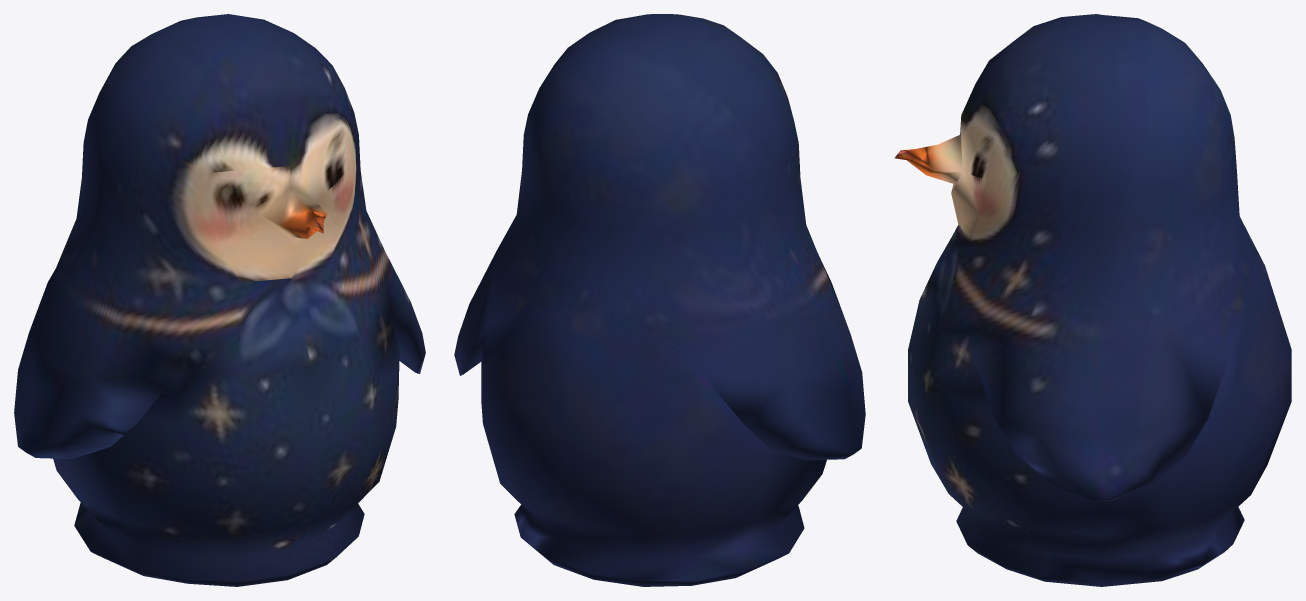
Rendered from penguin-06-31-midnight-navy-penguin-doll.gltf.
3 renders of one model, left to right at view 1: azimuth 30°, elevation 25°; view 2: azimuth 150°, elevation 25°; view 3: azimuth 270°, elevation 25°, orthographic.
Parts seen in each view (by area): view 1: penguin-06-31-midnight-navy-penguin-doll; view 2: penguin-06-31-midnight-navy-penguin-doll; view 3: penguin-06-31-midnight-navy-penguin-doll.
Boxes of the visible parts, x1,y1,x2,y2 form: penguin-06-31-midnight-navy-penguin-doll: (14,14,425,586); penguin-06-31-midnight-navy-penguin-doll: (454,14,865,586); penguin-06-31-midnight-navy-penguin-doll: (894,14,1291,586).
Size of the model in its own units: 0.2 by 0.2497 by 0.1734.
1 material, 1 textured.
